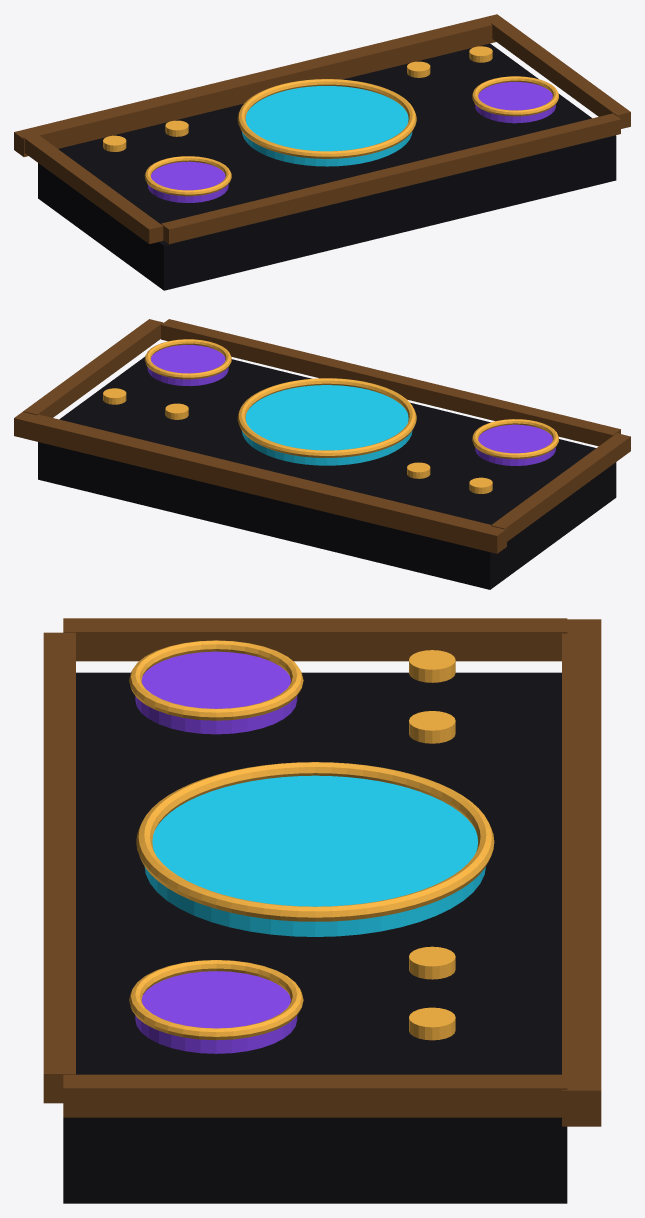
File: vmt_tuner_console_blockout.obj
3 views of the same model, one above another, from view 1: azimuth 30°, elevation 25°; view 2: azimuth 150°, elevation 25°; view 3: azimuth 270°, elevation 25° (orthographic). The views are drawn at different scales.
Parts seen in each view (by area): view 1: VMT_TunerConsole_Blockout; view 2: VMT_TunerConsole_Blockout; view 3: VMT_TunerConsole_Blockout.
Part boxes in pixels (x1=…): VMT_TunerConsole_Blockout: x1=14, y1=14, x2=630, y2=290; VMT_TunerConsole_Blockout: x1=14, y1=319, x2=630, y2=589; VMT_TunerConsole_Blockout: x1=43, y1=618, x2=601, y2=1203.
Bounding box in the file's own units: 6.2 × 0.91 × 3.1.
